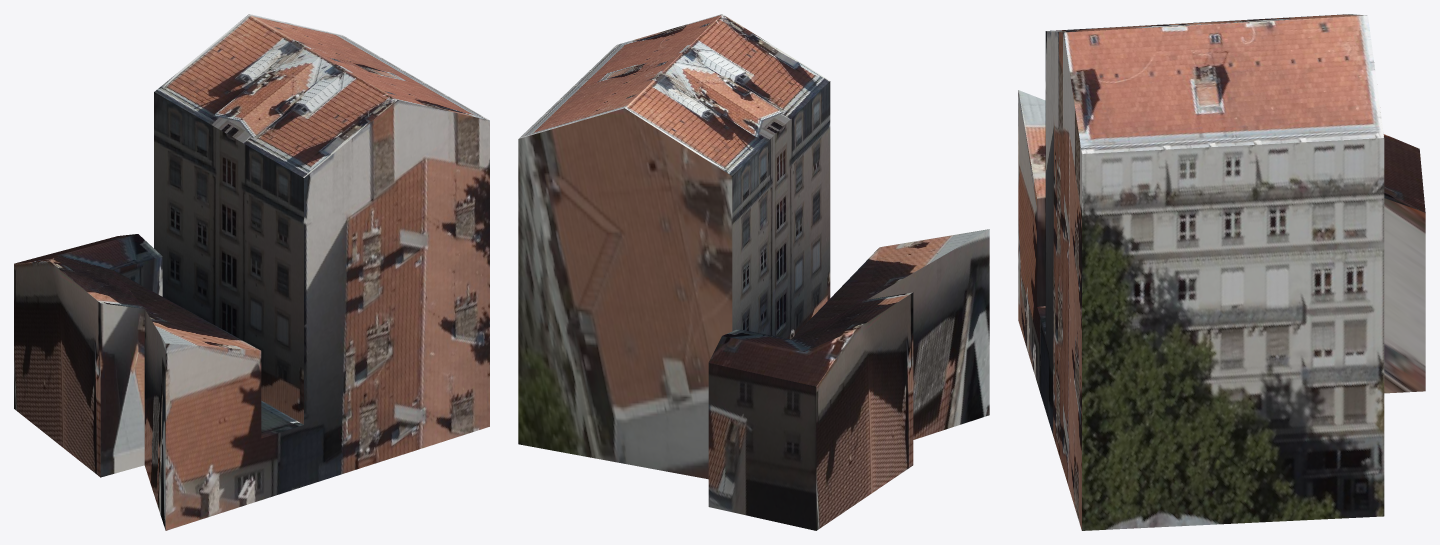
3 renders of one model, left to right at view 1: azimuth 30°, elevation 25°; view 2: azimuth 150°, elevation 25°; view 3: azimuth 270°, elevation 25°, orthographic. The views are drawn at different scales.
Visible parts, largest first — view 1: Z_UP; view 2: Z_UP; view 3: Z_UP.
Part boxes in pixels (left/top/right/bottom): Z_UP: left=14, top=14, right=489, bottom=530; Z_UP: left=518, top=14, right=989, bottom=530; Z_UP: left=1018, top=14, right=1425, bottom=530.
Bounding box in the file's own units: 27.35 × 26.73 × 22.39.
2 materials, 1 textured.
